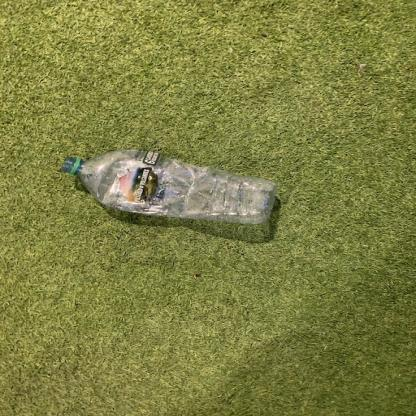trash: (62, 150, 278, 225)
